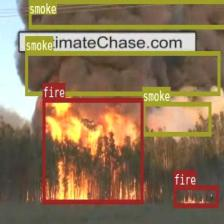fire: (42, 98, 142, 203), (173, 186, 218, 206)
smoke: (24, 50, 220, 96), (28, 0, 224, 28), (142, 101, 210, 135)
